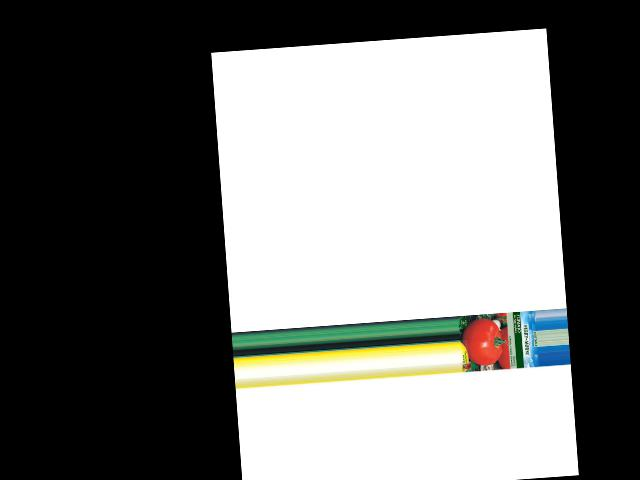tomato: (460, 317, 503, 367)
